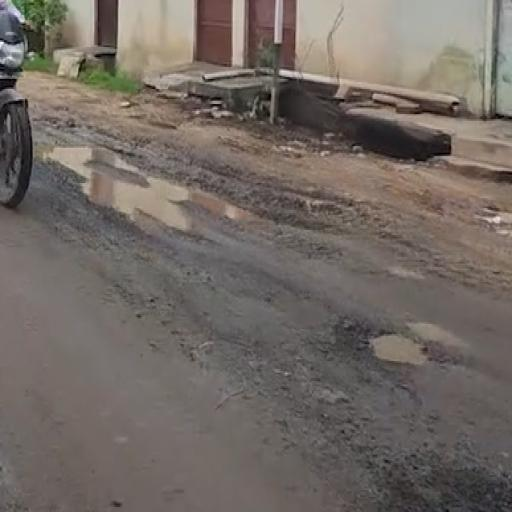pothole: (32, 111, 304, 271), (337, 286, 475, 412)
ravelling: (137, 288, 324, 453)
